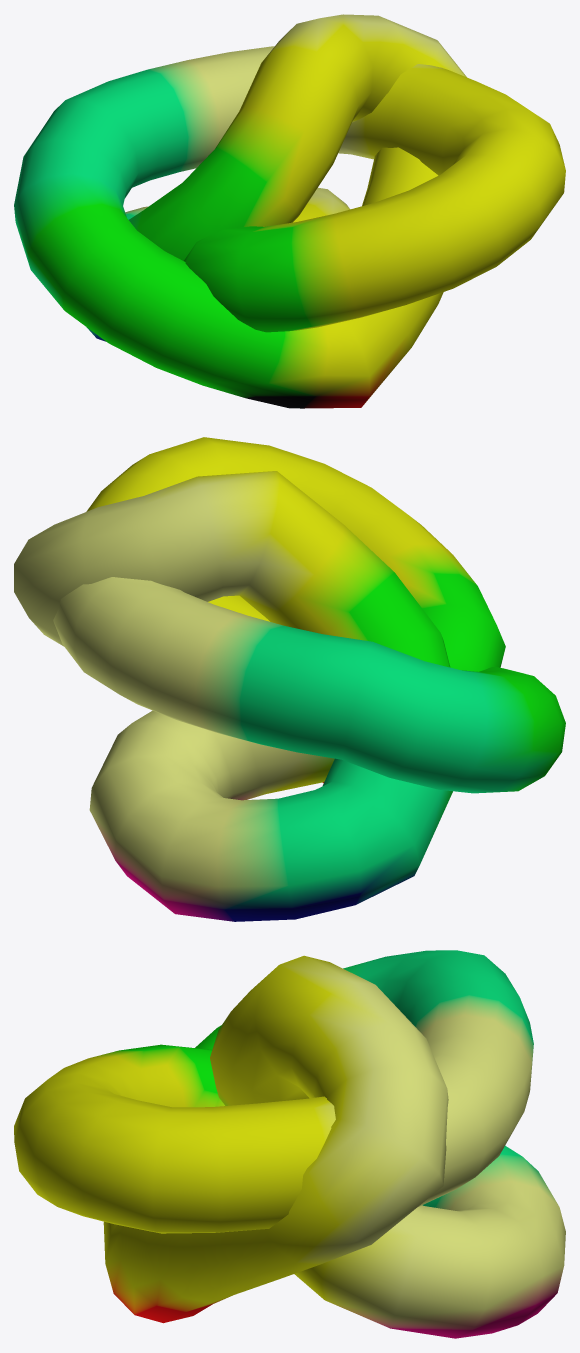
The model's file is level_backdrop.gltf.
3 renders of one model, top to bottom at view 1: azimuth 30°, elevation 25°; view 2: azimuth 150°, elevation 25°; view 3: azimuth 270°, elevation 25°, orthographic. The views are drawn at different scales.
Parts seen in each view (by area): view 1: default_track; view 2: default_track; view 3: default_track.
Part boxes in pixels (left/top/right/bottom): default_track: left=14, top=14, right=565, bottom=408; default_track: left=14, top=437, right=565, bottom=921; default_track: left=14, top=950, right=565, bottom=1338.
Bounding box in the file's own units: 1073 × 723 × 971.
